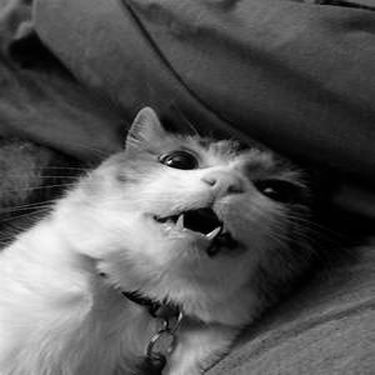cat: (10, 97, 322, 369)
